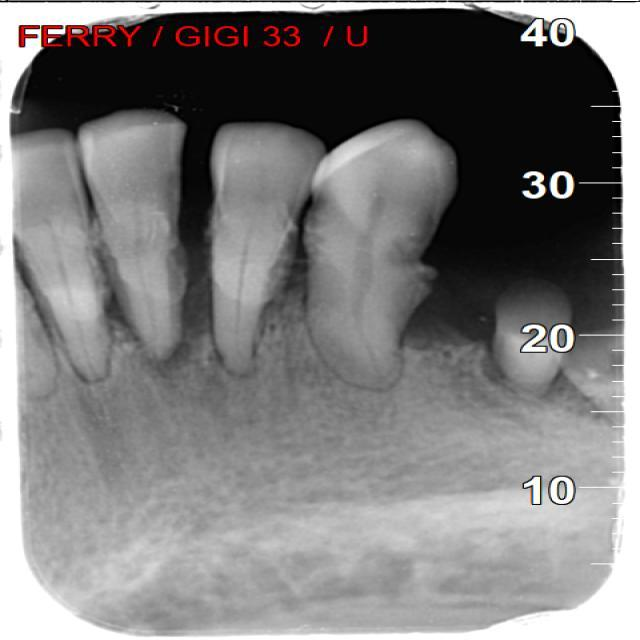individual-tooth-8tto: (304, 117, 459, 386), (208, 125, 330, 366), (78, 113, 185, 359)
